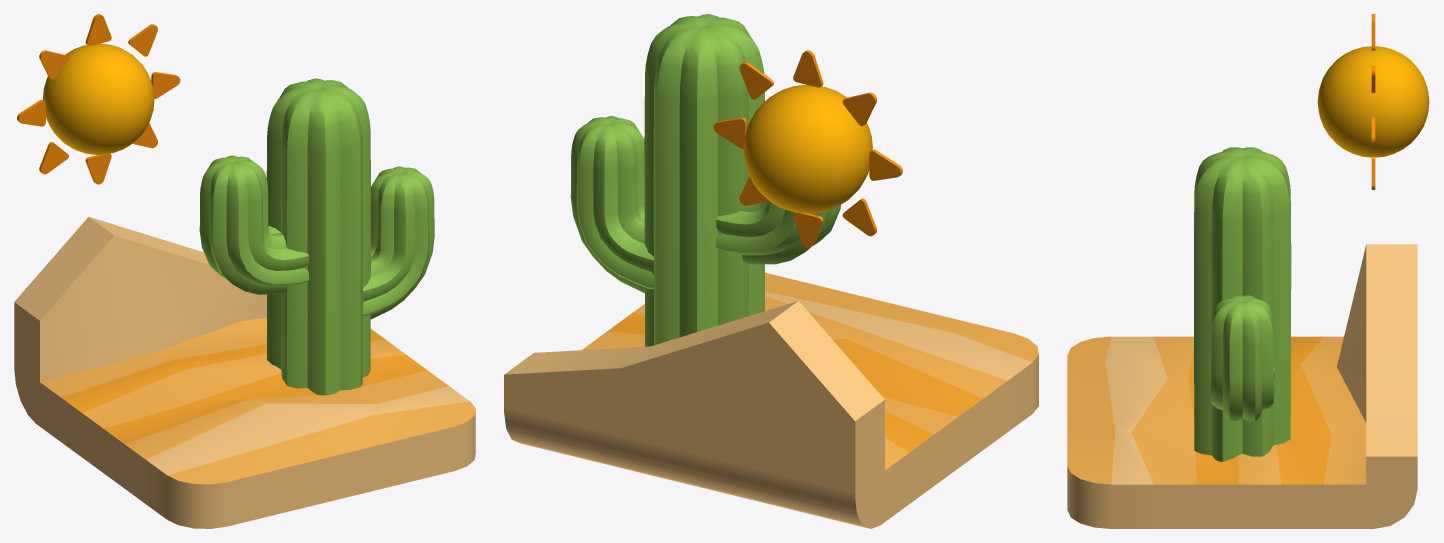
The model's file is desert.fbx.
3 views of the same model, side by side, from view 1: azimuth 30°, elevation 25°; view 2: azimuth 150°, elevation 25°; view 3: azimuth 270°, elevation 25° (orthographic). The views are drawn at different scales.
Parts seen in each view (by area): view 1: Circle.2334; view 2: Circle.2334; view 3: Circle.2334.
Part boxes in pixels (bbox=[...]): Circle.2334: bbox=[14, 14, 475, 528]; Circle.2334: bbox=[504, 14, 1038, 528]; Circle.2334: bbox=[1067, 14, 1429, 528].
Size of the model in its own units: 205 by 225 by 186.
1 material, 1 textured.
